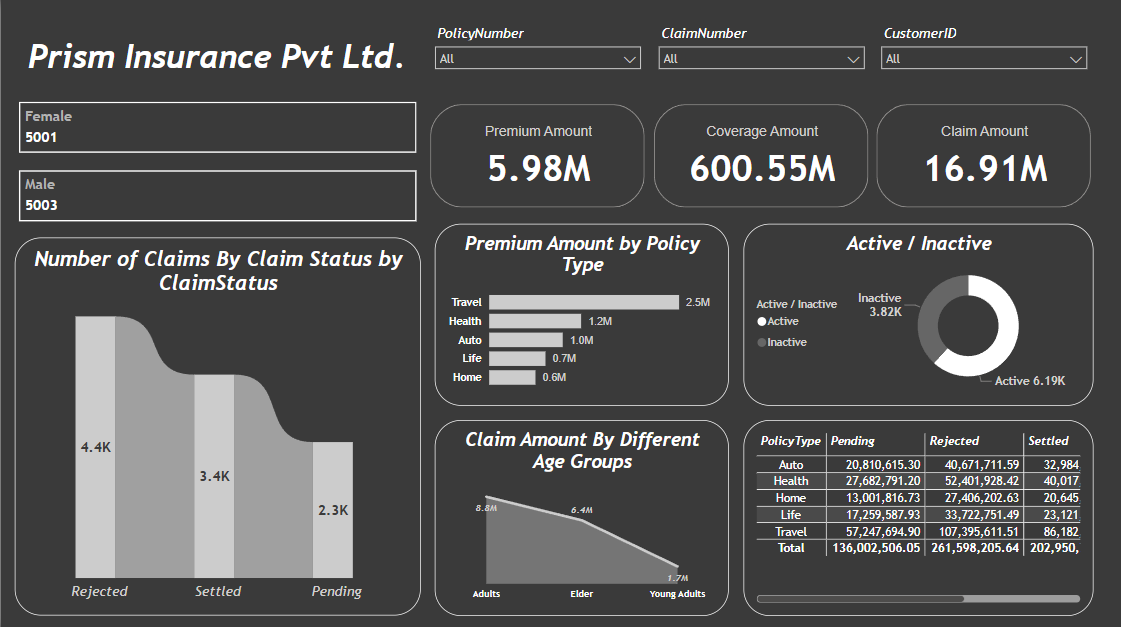

The page's visual inventory and layout, read from the dashboard file:
{"tool":"powerbi","page":{"name":"Page 1","canvas":[1280,720],"ordinal":0},"visuals":[{"type":"slicer","fields":{"Values":["InsuranceData.PolicyNumber"]},"box":[485.8,23.3,255.2,109.8],"z":0},{"type":"slicer","fields":{"Values":["InsuranceData.ClaimNumber"]},"box":[741,23.3,255.2,109.8],"z":1000},{"type":"slicer","fields":{"Values":["InsuranceData.CustomerID"]},"box":[996.2,23.3,255.2,109.8],"z":2000},{"type":"textbox","box":[26.1,37,469.3,63.1],"z":3000},{"type":"cardVisual","fields":{"Data":["Sum(InsuranceData.PremiumAmount)"]},"box":[485.8,113.9,255.2,129],"z":4000},{"type":"cardVisual","fields":{"Data":["Sum(InsuranceData.CoverageAmount)"]},"box":[741,113.9,255.2,129],"z":5000},{"type":"cardVisual","fields":{"Data":["Sum(InsuranceData.ClaimAmount)"]},"box":[996.2,113.9,255.2,129],"z":6000},{"type":"multiRowCard","fields":{"Values":["InsuranceData.Gender","CountNonNull(InsuranceData.Gender)"]},"box":[16,112,464,176],"z":7000},{"type":"ribbonChart","title":"Number of Claims By Claim Status by ClaimStatus","fields":{"Category":["InsuranceData.ClaimStatus"],"Y":["CountNonNull(InsuranceData.ClaimStatus)"]},"box":[16,272,464,432],"z":8000},{"type":"barChart","title":"Premium Amount by Policy Type","fields":{"Category":["InsuranceData.PolicyType"],"Y":["Sum(InsuranceData.PremiumAmount)"]},"box":[496,256,336,208],"z":9000},{"type":"lineChart","title":"Claim Amount By Different Age Groups","fields":{"Category":["InsuranceData.Age Group"],"Y":["Sum(InsuranceData.ClaimAmount)"]},"box":[496,480,336,224],"z":10000},{"type":"donutChart","title":"Active / Inactive","fields":{"Category":["InsuranceData.Active / Inactive"],"Y":["CountNonNull(InsuranceData.Active / Inactive)"]},"box":[848,256,400,208],"z":10001},{"type":"pivotTable","fields":{"Values":["Sum(InsuranceData.CoverageAmount)"],"Rows":["InsuranceData.PolicyType"],"Columns":["InsuranceData.ClaimStatus"]},"box":[848,480,400,224],"z":10002}]}

Visuals, with their boxes in screenshot pixels (x1, y1, x2, y2), scaled from the page's 1280x720 canvas onto the 1121x627 screenshot:
slicer - InsuranceData.PolicyNumber: bbox=[425, 20, 649, 116]
slicer - InsuranceData.ClaimNumber: bbox=[649, 20, 872, 116]
slicer - InsuranceData.CustomerID: bbox=[872, 20, 1096, 116]
textbox: bbox=[23, 32, 434, 87]
cardVisual - Sum(InsuranceData.PremiumAmount): bbox=[425, 99, 649, 212]
cardVisual - Sum(InsuranceData.CoverageAmount): bbox=[649, 99, 872, 212]
cardVisual - Sum(InsuranceData.ClaimAmount): bbox=[872, 99, 1096, 212]
multiRowCard - InsuranceData.Gender x CountNonNull(InsuranceData.Gender): bbox=[14, 98, 420, 251]
"Number of Claims By Claim Status by ClaimStatus" ribbonChart: bbox=[14, 237, 420, 613]
"Premium Amount by Policy Type" barChart: bbox=[434, 223, 729, 404]
"Claim Amount By Different Age Groups" lineChart: bbox=[434, 418, 729, 613]
"Active / Inactive" donutChart: bbox=[743, 223, 1093, 404]
pivotTable - Sum(InsuranceData.CoverageAmount) x InsuranceData.PolicyType: bbox=[743, 418, 1093, 613]
